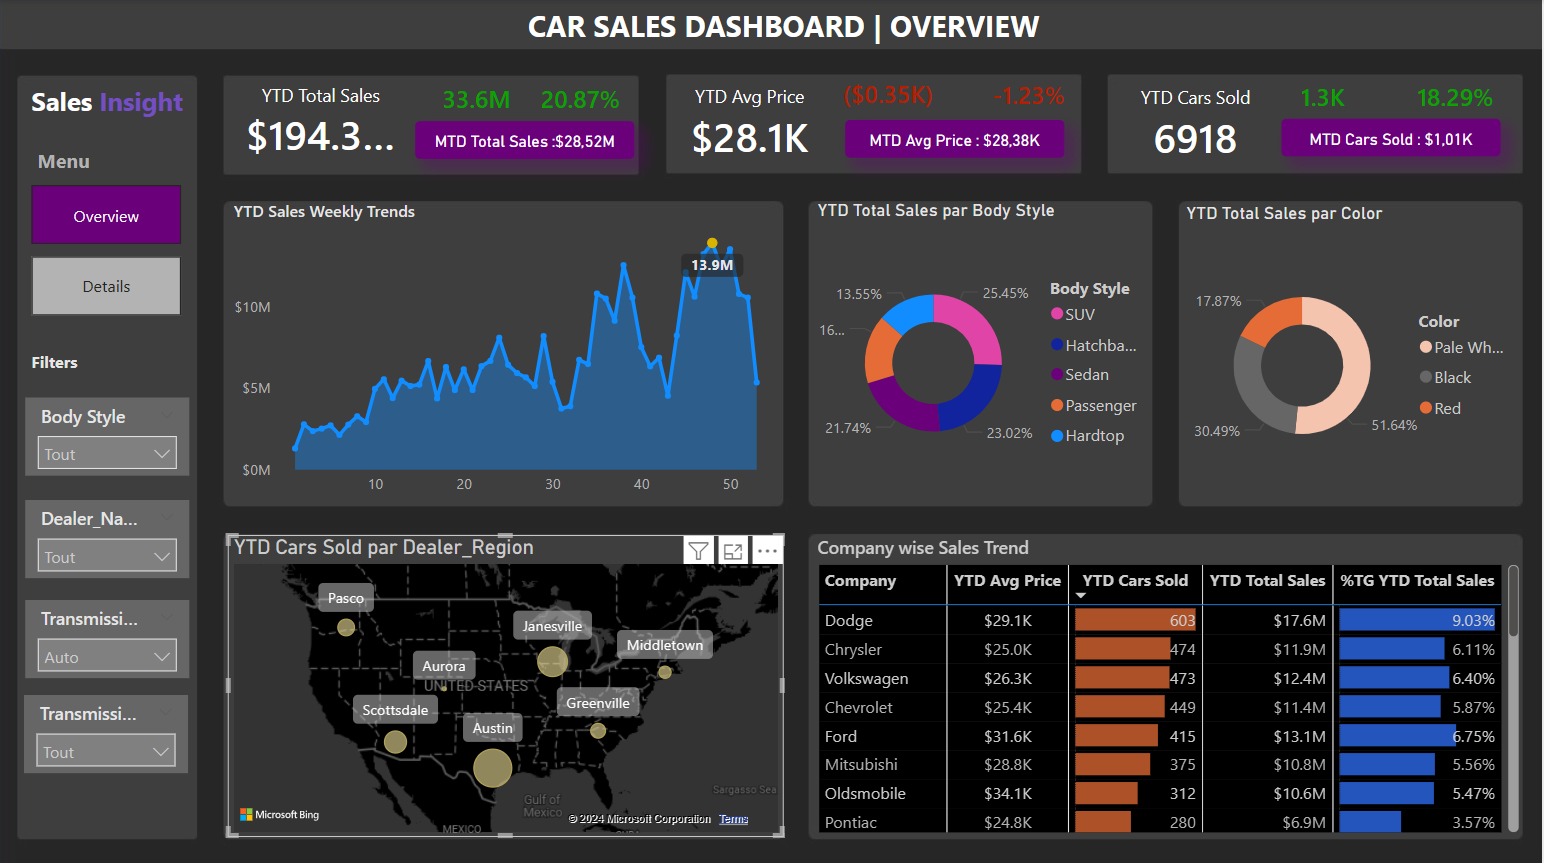

The page's visual inventory and layout, read from the dashboard file:
{"tool":"powerbi","page":{"name":"Overview","canvas":[1280,720],"ordinal":0},"visuals":[{"type":"card","title":"YTD Total Sales","fields":{"Values":["car_data.YTD Total Sales"]},"box":[192.1,68.1,150,67.4],"z":0},{"type":"card","fields":{"Values":["car_data.Sales Difference"]},"box":[350,69.8,91.9,29.1],"z":1000},{"type":"card","fields":{"Values":["car_data.YOY Sales Growth"]},"box":[441.9,69.8,81.4,29.1],"z":2000},{"type":"card","fields":{"Values":["car_data.MTD KPI"]},"box":[344.9,100.9,181.4,31.4],"z":3000},{"type":"card","title":"YTD Avg Price","fields":{"Values":["car_data.YTD Avg Price"]},"box":[562.8,69.8,119.3,67.4],"z":4000},{"type":"card","fields":{"Values":["car_data.Avg Price Diff"]},"box":[690.7,65.1,91.9,29.1],"z":5000},{"type":"card","fields":{"Values":["car_data.YoY Avg Price Growth"]},"box":[816.3,66.3,74.4,27.9],"z":6000},{"type":"card","fields":{"Values":["car_data.MTD Avg Price KPI"]},"box":[701.6,99.3,181.4,31.4],"z":7000},{"type":"card","title":"YTD Cars Sold","fields":{"Values":["car_data.YTD Cars Sold"]},"box":[932.3,70,118.6,67.4],"z":8000},{"type":"card","fields":{"Values":["car_data.Cars Sold Diff"]},"box":[1052.3,67.4,91.9,29.1],"z":9000},{"type":"card","fields":{"Values":["car_data.YoY Car Sold Growth"]},"box":[1161.6,67.4,91.9,29.1],"z":10000},{"type":"card","fields":{"Values":["car_data.MTD Cars Sold KPI"]},"box":[1063.3,98.1,181.4,31.4],"z":11000},{"type":"areaChart","title":"YTD Sales Weekly Trends","fields":{"Category":["Calendar Table.Week"],"Y":["Sum(car_data.Price ($))","car_data.Max Point"]},"box":[189.4,166,461.1,253.9],"z":12000},{"type":"donutChart","fields":{"Category":["car_data.Body Style"],"Y":["car_data.YTD Total Sales"]},"box":[673.8,166,285.4,253.9],"z":13000},{"type":"donutChart","fields":{"Y":["car_data.YTD Total Sales"],"Category":["car_data.Color"]},"box":[979.8,167.4,285.4,253.9],"z":14000},{"type":"map","fields":{"Category":["car_data.Dealer_Region"],"Size":["car_data.YTD Cars Sold"]},"box":[189.4,443.2,461.1,251.1],"z":15000},{"type":"tableEx","title":"Company wise Sales Trend","fields":{"Values":["car_data.Company","car_data.YTD Avg Price","car_data.YTD Cars Sold","car_data.YTD Total Sales1","car_data.YTD Total Sales"]},"box":[673.8,443.2,591.4,251.1],"z":16000},{"type":"textbox","box":[406.2,0,488.5,45.3],"z":17000},{"type":"slicer","fields":{"Values":["car_data.Body Style"]},"box":[22,329.3,135.8,64.5],"z":18000},{"type":"slicer","fields":{"Values":["car_data.Dealer_Name"]},"box":[22,414.4,135.8,64.5],"z":19000},{"type":"slicer","fields":{"Values":["car_data.Transmission"]},"box":[21.7,497.6,135.8,64.5],"z":20000},{"type":"slicer","fields":{"Values":["car_data.Transmission","car_data.Engine"]},"box":[20.6,575.8,135.8,64.5],"z":21000},{"type":"textbox","box":[21.7,286.5,64.5,30.2],"z":22000},{"type":"textbox","box":[22,64.5,148.2,45.3],"z":22001},{"type":"textbox","box":[20.6,116.6,65.9,37],"z":22002},{"type":"pageNavigator","box":[27.4,153.7,124.9,109.8],"z":22003}]}

Visuals, with their boxes in screenshot pixels (x1, y1, x2, y2), scaled from the page's 1280x720 canvas onto the 1544x863 screenshot:
"YTD Total Sales" card: <bbox>232, 82, 413, 162</bbox>
card - car_data.Sales Difference: <bbox>422, 84, 533, 119</bbox>
card - car_data.YOY Sales Growth: <bbox>533, 84, 631, 119</bbox>
card - car_data.MTD KPI: <bbox>416, 121, 635, 159</bbox>
"YTD Avg Price" card: <bbox>679, 84, 823, 164</bbox>
card - car_data.Avg Price Diff: <bbox>833, 78, 944, 113</bbox>
card - car_data.YoY Avg Price Growth: <bbox>985, 79, 1074, 113</bbox>
card - car_data.MTD Avg Price KPI: <bbox>846, 119, 1065, 157</bbox>
"YTD Cars Sold" card: <bbox>1125, 84, 1268, 165</bbox>
card - car_data.Cars Sold Diff: <bbox>1269, 81, 1380, 116</bbox>
card - car_data.YoY Car Sold Growth: <bbox>1401, 81, 1512, 116</bbox>
card - car_data.MTD Cars Sold KPI: <bbox>1283, 118, 1501, 155</bbox>
"YTD Sales Weekly Trends" areaChart: <bbox>228, 199, 785, 503</bbox>
donutChart - car_data.Body Style x car_data.YTD Total Sales: <bbox>813, 199, 1157, 503</bbox>
donutChart - car_data.YTD Total Sales x car_data.Color: <bbox>1182, 201, 1526, 505</bbox>
map - car_data.Dealer_Region x car_data.YTD Cars Sold: <bbox>228, 531, 785, 832</bbox>
"Company wise Sales Trend" tableEx: <bbox>813, 531, 1526, 832</bbox>
textbox: <bbox>490, 0, 1079, 54</bbox>
slicer - car_data.Body Style: <bbox>27, 395, 190, 472</bbox>
slicer - car_data.Dealer_Name: <bbox>27, 497, 190, 574</bbox>
slicer - car_data.Transmission: <bbox>26, 596, 190, 674</bbox>
slicer - car_data.Transmission x car_data.Engine: <bbox>25, 690, 189, 767</bbox>
textbox: <bbox>26, 343, 104, 380</bbox>
textbox: <bbox>27, 77, 205, 132</bbox>
textbox: <bbox>25, 140, 104, 184</bbox>
pageNavigator: <bbox>33, 184, 184, 316</bbox>
